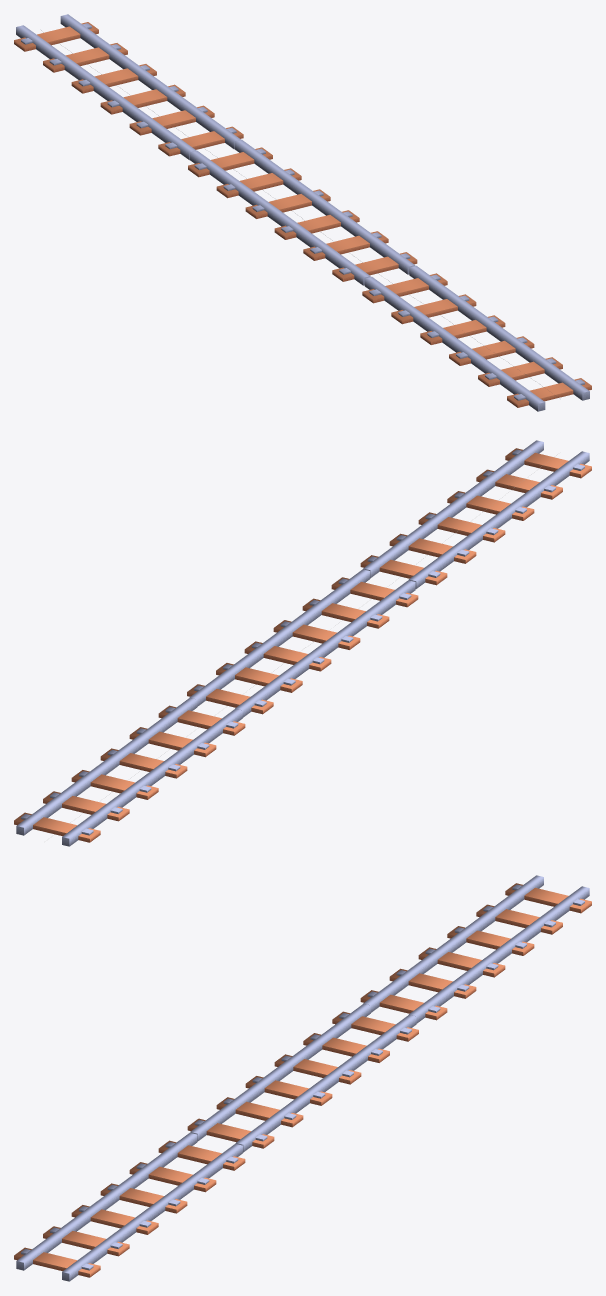
The model's file is straight-shot.glb.
The picture shows the model from 3 angles, top to bottom: view 1: azimuth 30°, elevation 25°; view 2: azimuth 150°, elevation 25°; view 3: azimuth 330°, elevation 25°; orthographic projection.
Parts seen in each view (by area): view 1: railroad-straight.002, railroad-straight.004, railroad-straight.005; view 2: railroad-straight.005, railroad-straight.002, railroad-straight.004; view 3: railroad-straight.002, railroad-straight.004, railroad-straight.005.
Part boxes in pixels (x1,y1,x2,y2): railroad-straight.002: [362, 265, 591, 411]; railroad-straight.004: [188, 139, 417, 285]; railroad-straight.005: [14, 14, 243, 160]; railroad-straight.005: [14, 698, 245, 846]; railroad-straight.002: [360, 440, 591, 588]; railroad-straight.004: [187, 569, 418, 717]; railroad-straight.002: [14, 1133, 245, 1281]; railroad-straight.004: [187, 1003, 418, 1152]; railroad-straight.005: [360, 875, 591, 1023].
Bounding box in the file's own units: 1.07 × 0.1135 × 12.05.
Materials: 1 (1 with a texture image).
